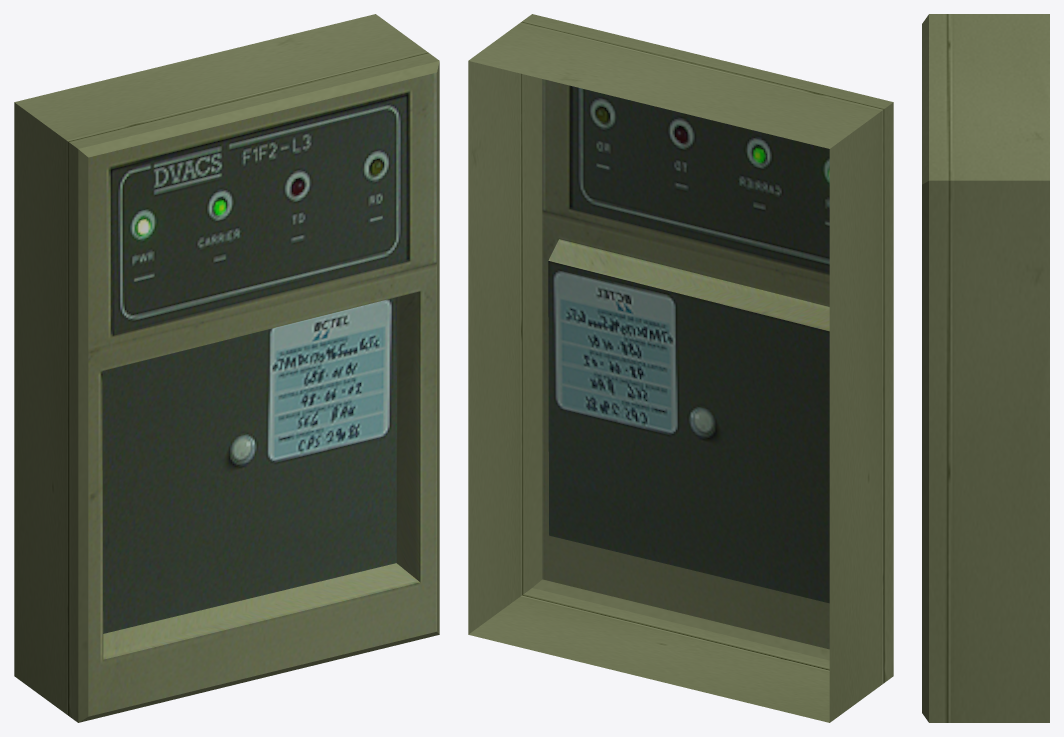
The model's file is alarm-1.FBX.
3 renders of one model, left to right at view 1: azimuth 30°, elevation 25°; view 2: azimuth 150°, elevation 25°; view 3: azimuth 270°, elevation 25°, orthographic. The views are drawn at different scales.
Parts seen in each view (by area): view 1: Box01; view 2: Box01; view 3: Box01.
Part boxes in pixels (left/top/right/bottom): Box01: left=14, top=14, right=439, bottom=722; Box01: left=468, top=14, right=893, bottom=722; Box01: left=922, top=14, right=1049, bottom=722.
Bounding box in the file's own units: 5.59 × 8.49 × 1.81.
